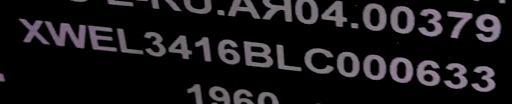letter: (44, 18, 88, 49), (16, 16, 52, 45), (242, 38, 274, 70), (86, 22, 118, 53), (113, 25, 145, 55), (302, 46, 336, 74), (274, 41, 304, 71), (470, 63, 498, 94), (442, 59, 470, 90), (414, 58, 442, 87), (166, 33, 194, 61), (334, 49, 362, 77), (141, 28, 167, 58), (388, 56, 416, 83), (361, 51, 387, 80), (216, 37, 242, 65), (192, 33, 216, 63)
